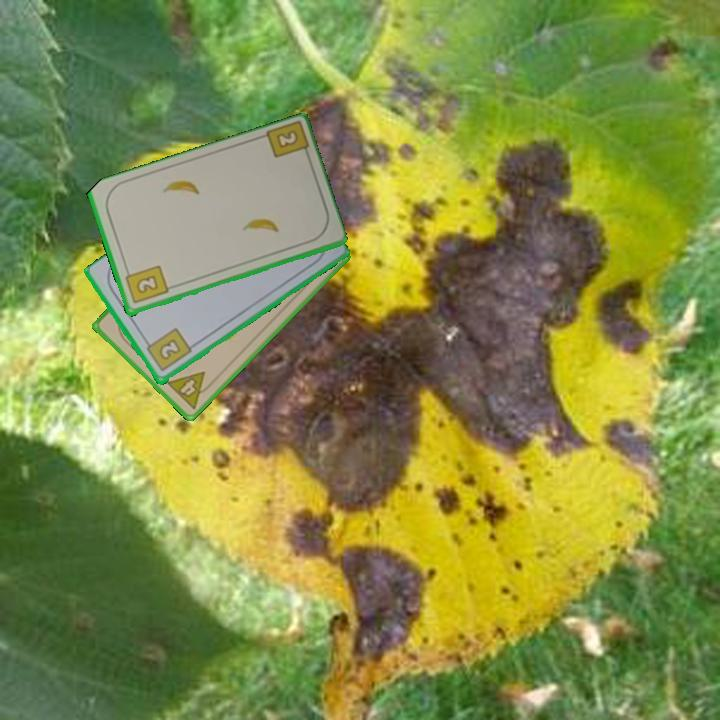2b: (141, 325, 194, 375), (261, 119, 313, 163), (122, 262, 171, 307)
4p: (163, 368, 217, 412)
